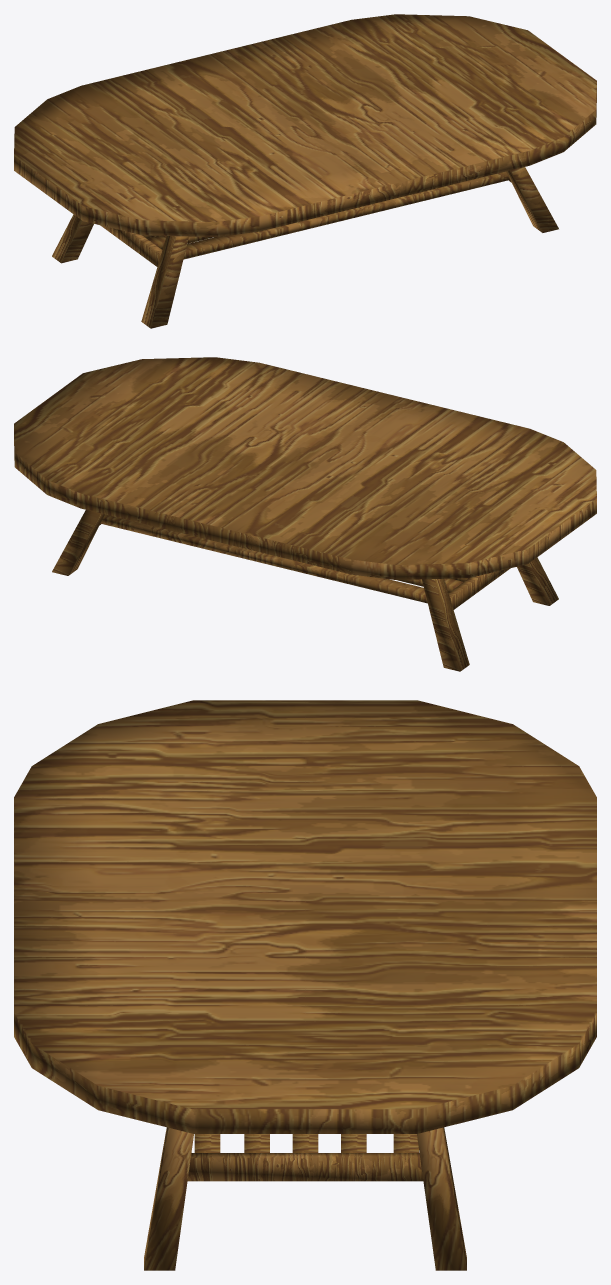
Rendered from mesa2.fbx.
3 views of the same model, one above another, from view 1: azimuth 30°, elevation 25°; view 2: azimuth 150°, elevation 25°; view 3: azimuth 270°, elevation 25° (orthographic). The views are drawn at different scales.
Visible parts, largest first — view 1: Mesa; view 2: Mesa; view 3: Mesa.
Part boxes in pixels (x1,y1,x2,y2): Mesa: [14, 14, 596, 328]; Mesa: [14, 357, 596, 671]; Mesa: [14, 700, 596, 1270].
Size of the model in its own units: 82.63 by 19.13 by 49.77.
Materials: 3 (3 with a texture image).
